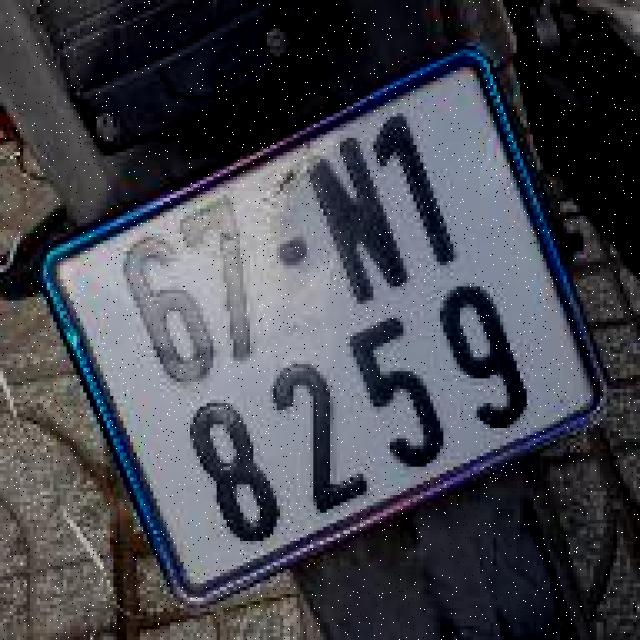1: (374, 99, 474, 272)
2: (280, 345, 360, 514)
5: (354, 308, 434, 488)
6: (125, 223, 202, 392)
7: (188, 192, 265, 370)
8: (195, 387, 278, 561)
9: (438, 274, 522, 440)
N: (312, 129, 392, 302)
